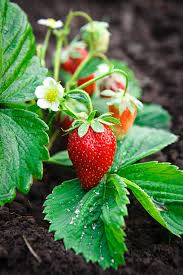ripe: (67, 116, 118, 190), (58, 44, 97, 98)
unripe: (96, 73, 137, 142)
